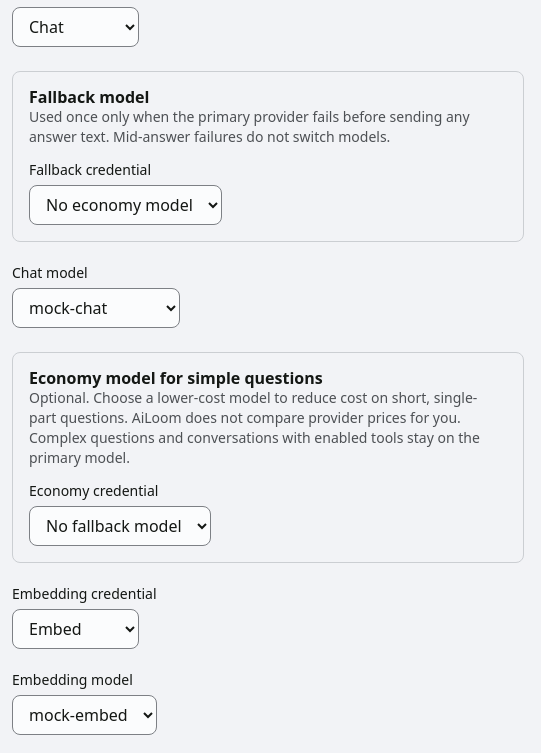
Test case: BotModelForm › requires a model after the chat credential changes
Step 1. Select "Other chat" in the dropdown labelled "Chat credential" → (76, 27), box [12,7,139,47]
(page scrolled)
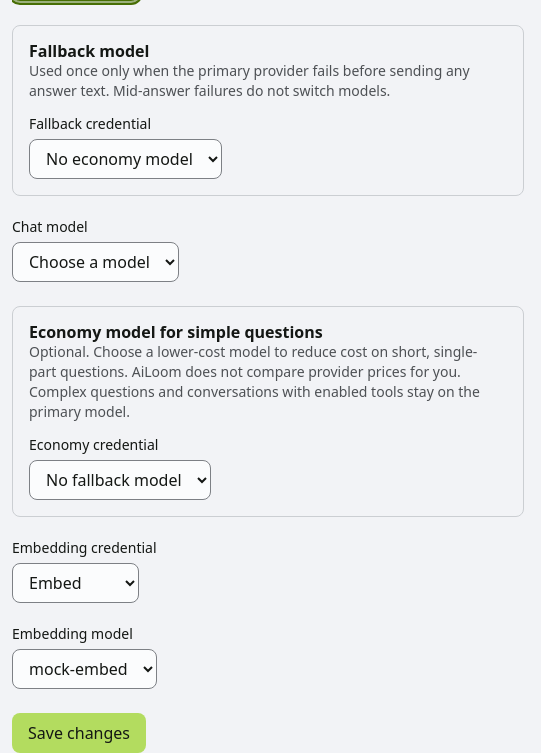
Step 2. Click the button "Save changes" → click(79, 733), box [12,713,146,752]
(page scrolled)
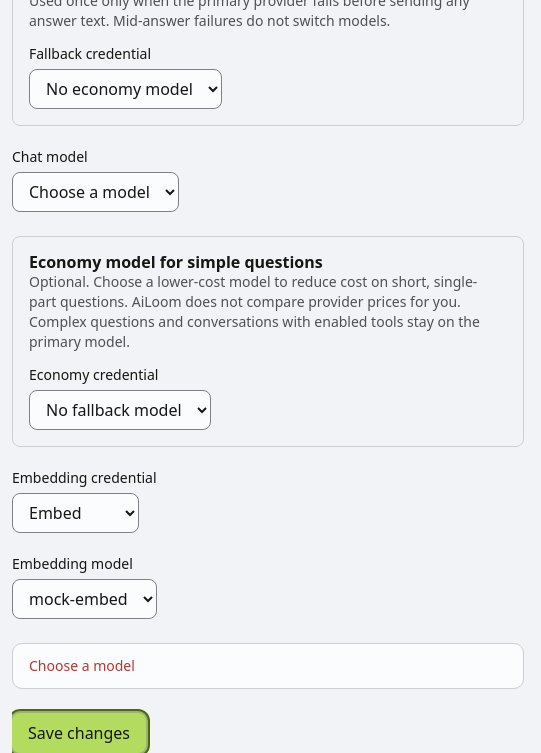
Expected: the message reads "Choose a model", [29,656,135,675]
